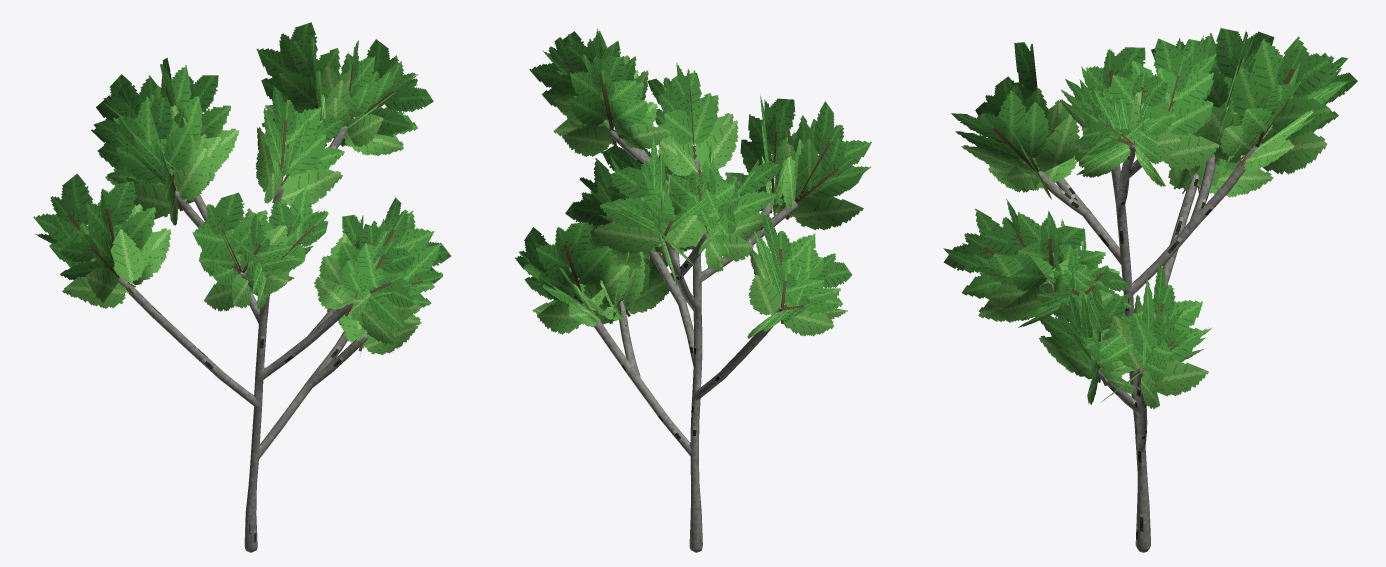
File: environment_elmsapling2_v15.fbx
3 views of the same model, side by side, from view 1: azimuth 30°, elevation 25°; view 2: azimuth 150°, elevation 25°; view 3: azimuth 270°, elevation 25° (orthographic). The views are drawn at different scales.
Parts seen in each view (by area): view 1: environment_elmsapling2_v15_lod0; view 2: environment_elmsapling2_v15_lod0; view 3: environment_elmsapling2_v15_lod0.
Part boxes in pixels (bbox=[...]): environment_elmsapling2_v15_lod0: bbox=[33, 22, 451, 552]; environment_elmsapling2_v15_lod0: bbox=[515, 28, 871, 552]; environment_elmsapling2_v15_lod0: bbox=[943, 28, 1357, 552].
Size of what is drawn, in the model's own units: 147 by 186 by 132.
2 materials, 2 textured.
